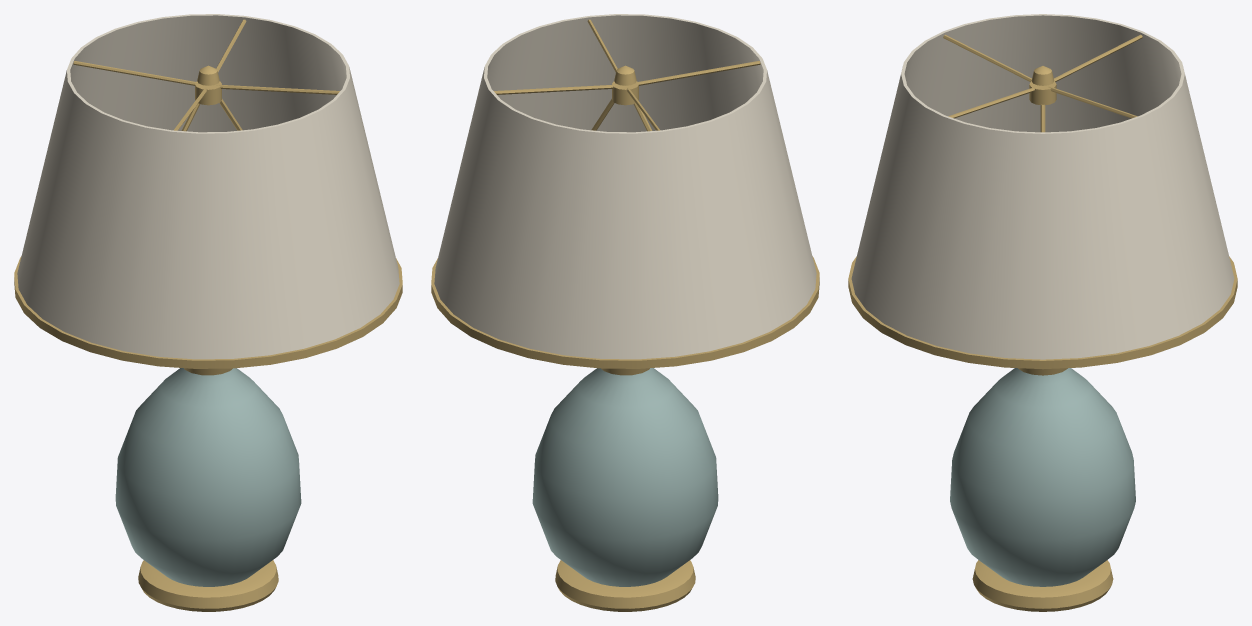
File: TableLamp.fbx
The picture shows the model from 3 angles, left to right: view 1: azimuth 30°, elevation 25°; view 2: azimuth 150°, elevation 25°; view 3: azimuth 270°, elevation 25°; orthographic projection.
Visible parts, largest first — view 1: TableLamp_Mesh; view 2: TableLamp_Mesh; view 3: TableLamp_Mesh.
Part boxes in pixels (x1=…): TableLamp_Mesh: x1=14, y1=14, x2=402, y2=611; TableLamp_Mesh: x1=431, y1=14, x2=819, y2=611; TableLamp_Mesh: x1=848, y1=14, x2=1237, y2=611.
Bounding box in the file's own units: 0.343 × 0.503 × 0.343.
